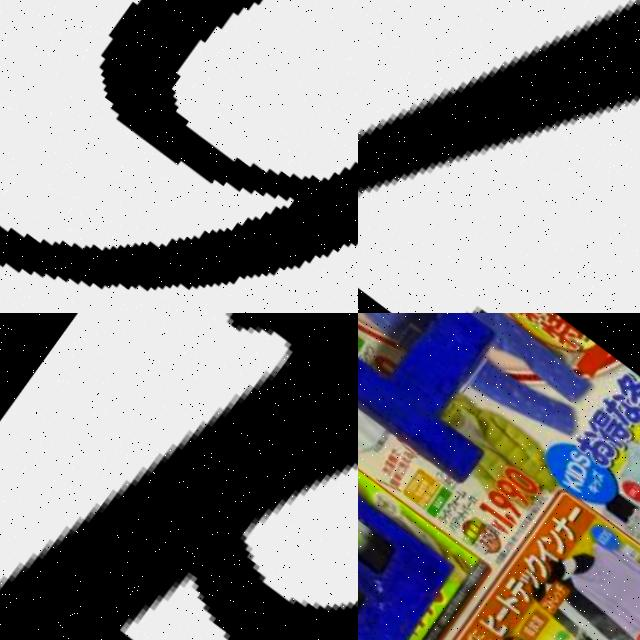6: (0, 0, 358, 313)
7: (358, 0, 640, 313)
B: (358, 440, 466, 640)
D: (0, 313, 358, 640)
T: (358, 313, 539, 484)
